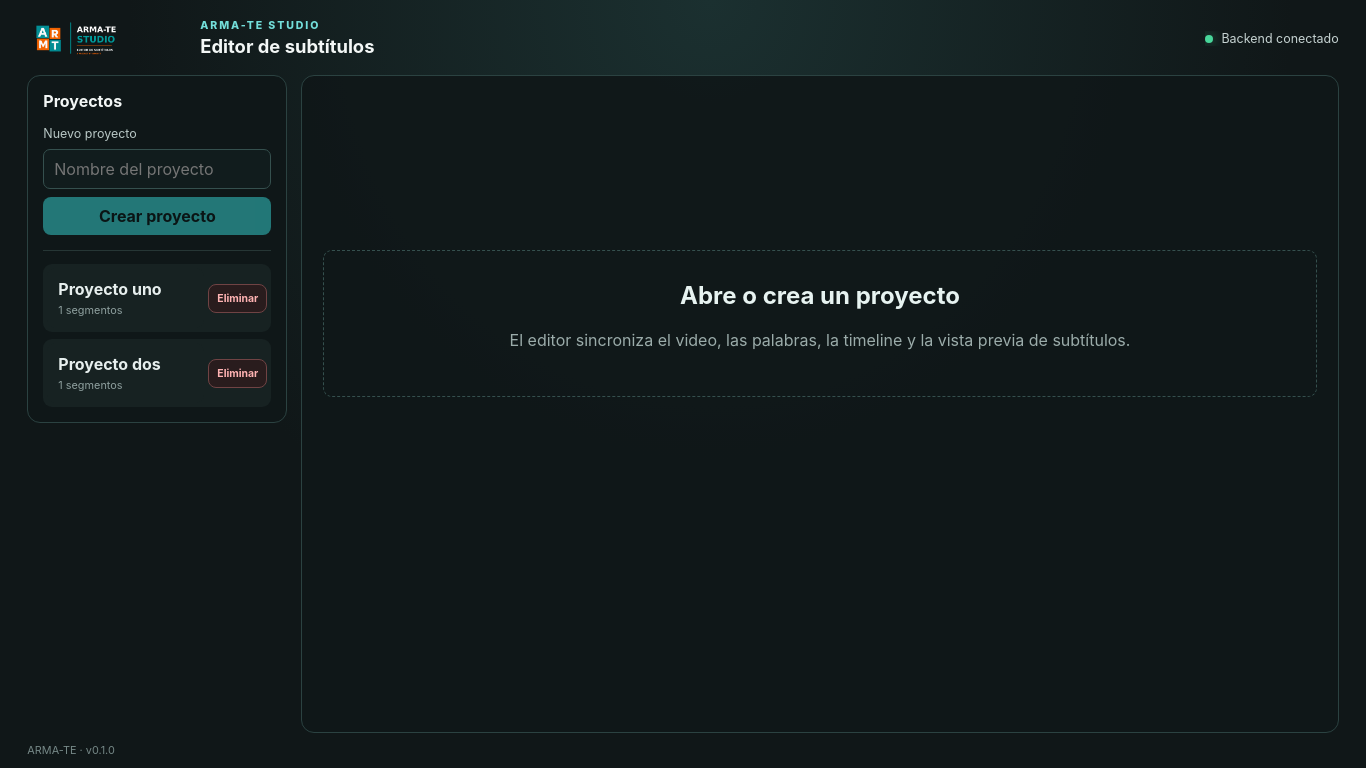
Test: application persistence boundaries › flushes changes before deleting the open project and returns to the empty state
Expected: the text "Backend conectado" is shown, [1205, 30, 1339, 46]
Click the button "Proyecto uno 1 segmentos" at (126, 298), box [47, 268, 204, 328]
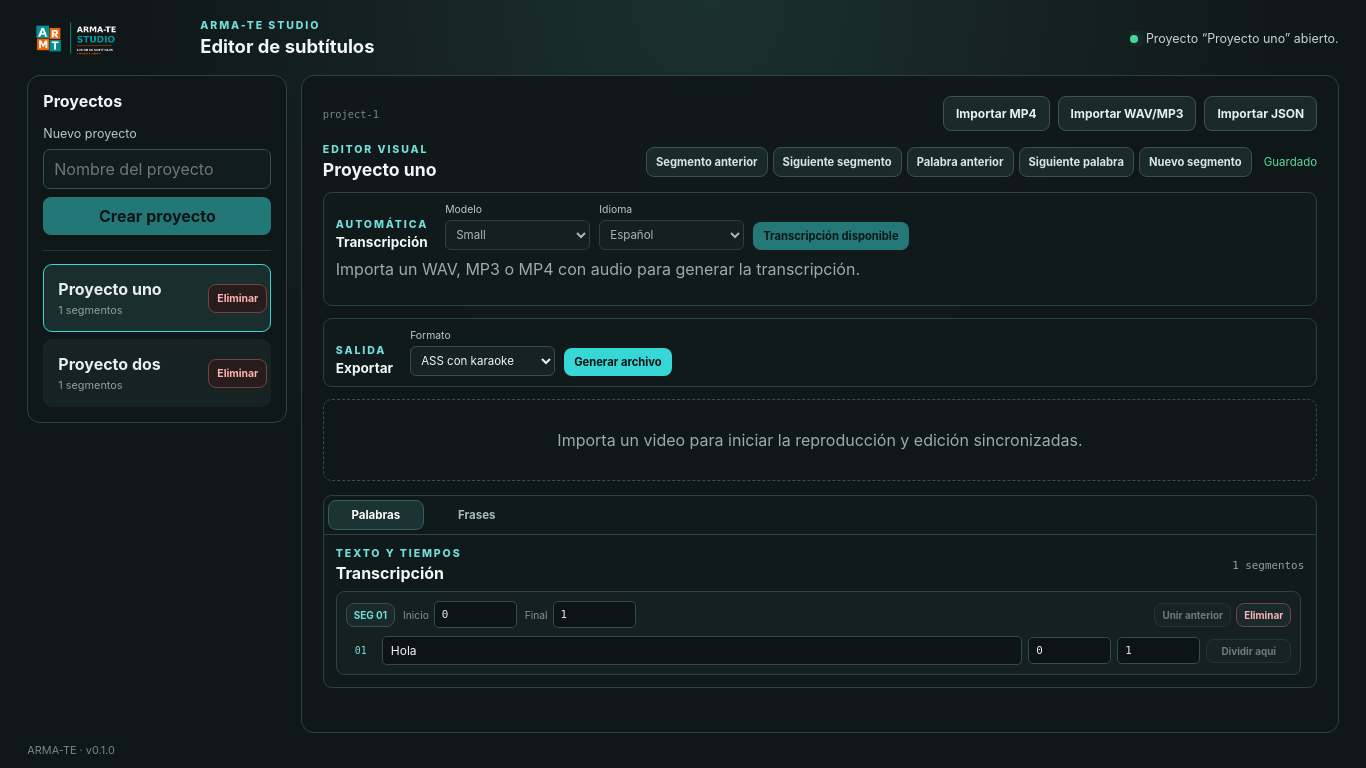
Expected: the field named "Texto palabra 1" is shown
Replace the text in the field named "Texto palabra 1" with "Buenas" at (702, 651), box [382, 636, 1022, 666]
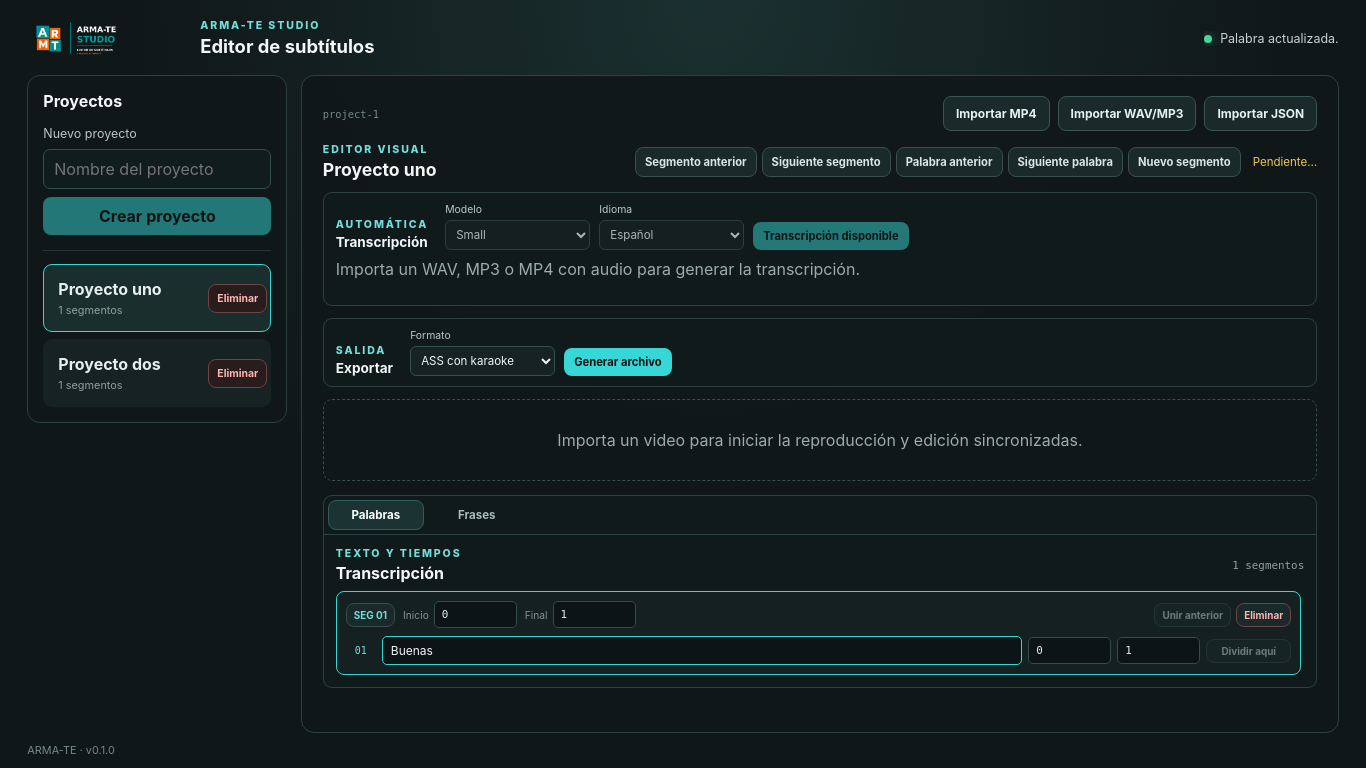
Click the button with aria-label "Eliminar proyecto Proyecto uno" at (238, 298), box [208, 284, 267, 312]
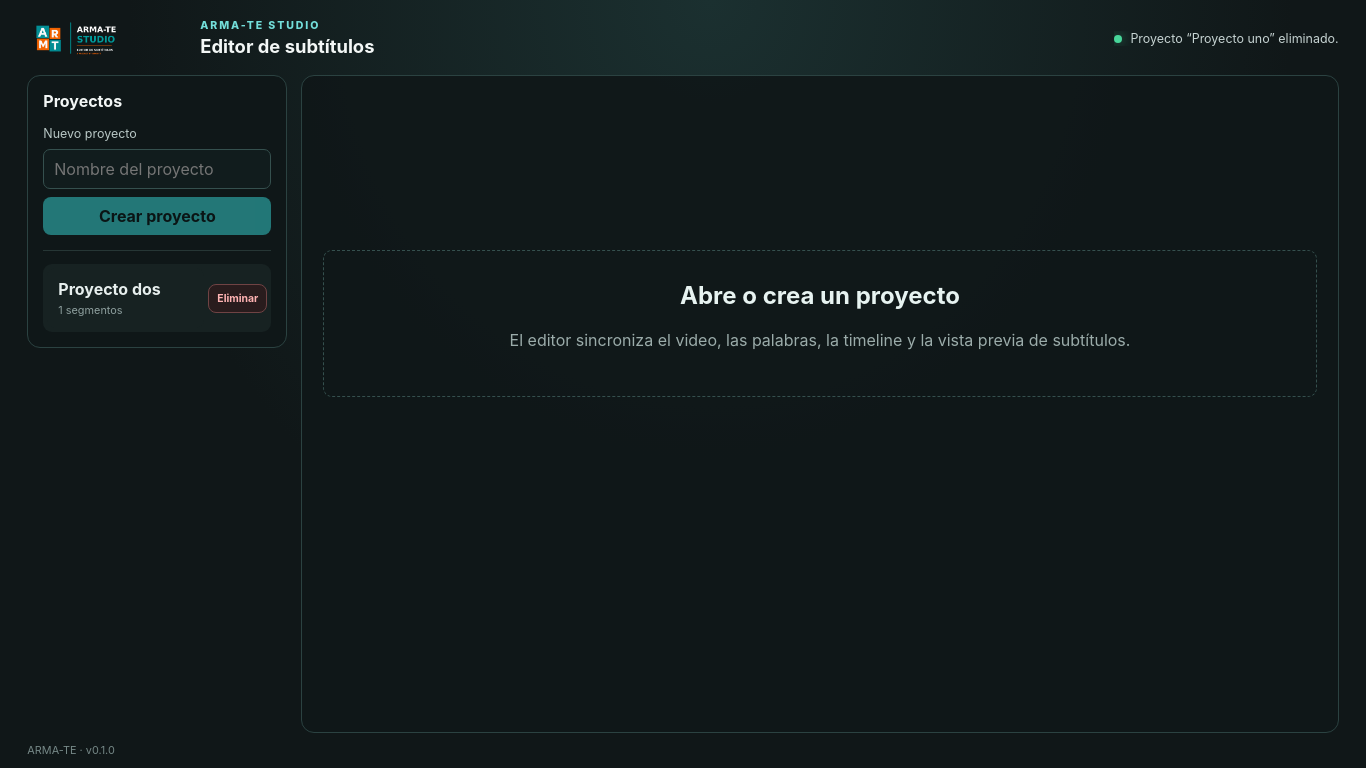
Expected: the heading "Abre o crea un proyecto" is shown, [680, 281, 960, 310]
